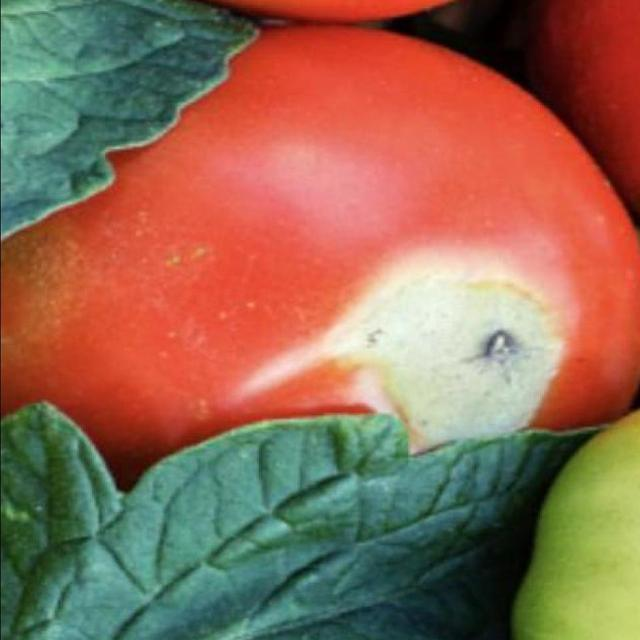Blossom End Rot Fruit: (237, 175, 390, 301)
